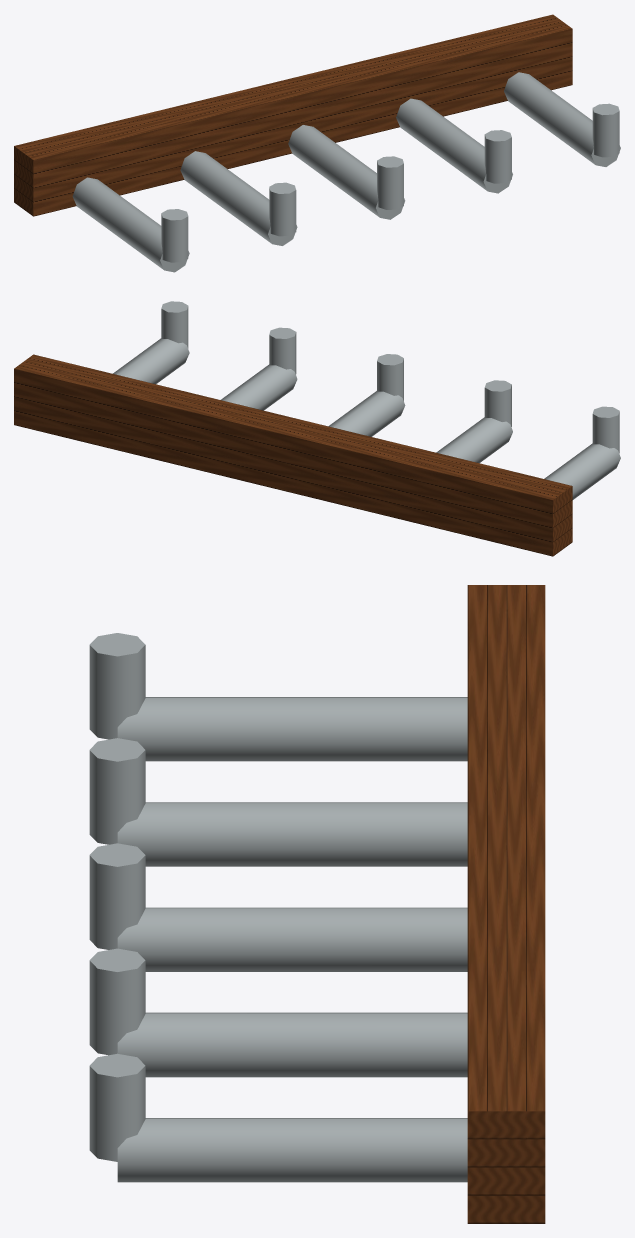
The model's file is suburban-outbreak-interiors-kitchen-pot-rail-33be3d97__20003.glb.
3 views of the same model, one above another, from view 1: azimuth 30°, elevation 25°; view 2: azimuth 150°, elevation 25°; view 3: azimuth 270°, elevation 25° (orthographic). The views are drawn at different scales.
Visible parts, largest first — view 1: kitchen-pot-rail; view 2: kitchen-pot-rail; view 3: kitchen-pot-rail.
Boxes of the visible parts, <box> form: kitchen-pot-rail: <box>14,14,620,272</box>; kitchen-pot-rail: <box>14,301,620,556</box>; kitchen-pot-rail: <box>89,585,545,1223</box>.
Size of the model in its own units: 0.8 by 0.087 by 0.293.
Materials: 2 (1 with a texture image).
